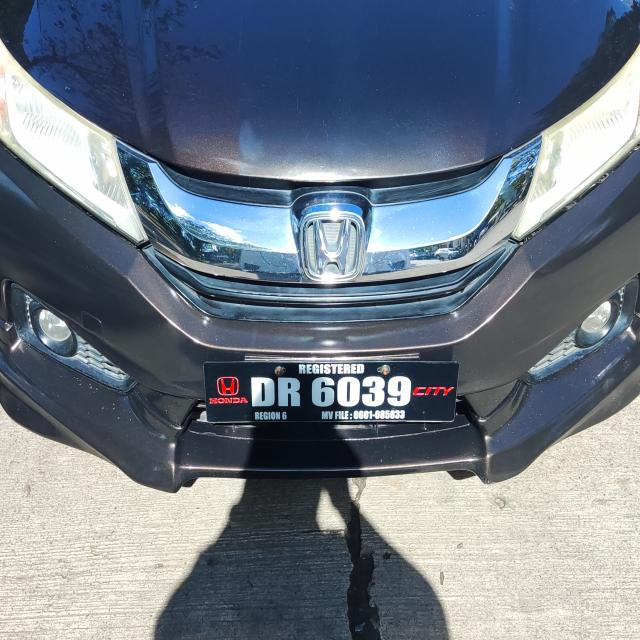plate: (200, 355, 464, 427)
